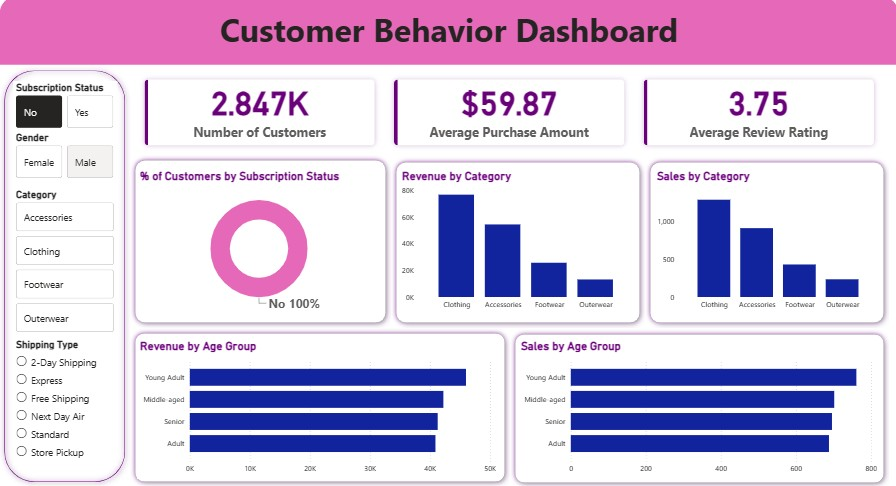

What the dashboard file says about the page in this screenshot:
{"tool":"powerbi","page":{"name":"Page 1","canvas":[1500,820],"ordinal":0},"visuals":[{"type":"cardVisual","fields":{"Data":["public customer.Number of Customers","public customer.Average Purchase Amount","public customer.Average Review Rating"]},"box":[218.3,115,1265,153.3],"z":0},{"type":"shape","box":[0,0,1500,115.4],"z":1000},{"type":"textbox","box":[0,13.4,1500,102],"z":2000},{"type":"shape","box":[218.3,265,435,288.3],"z":3000},{"type":"donutChart","title":"% of Customers by Subscription Status","fields":{"Category":["public customer.subscription_status"],"Y":["CountNonNull(public customer.customer_id)"]},"box":[230,288.3,406.7,243.3],"z":4000},{"type":"shape","box":[653.3,268.3,423.3,285],"z":5000},{"type":"shape","box":[1076.7,268.3,406.7,285],"z":6000},{"type":"clusteredColumnChart","title":"Revenue by Category","fields":{"Y":["Sum(public customer.purchase_amount)"],"Category":["public customer.category"]},"box":[666.7,288.3,395,243.3],"z":7000},{"type":"clusteredColumnChart","title":"Sales by Category","fields":{"Category":["public customer.category"],"Y":["CountNonNull(public customer.customer_id)"]},"box":[1091.7,288.3,376.7,243.3],"z":8000},{"type":"shape","box":[0,115.4,219.1,704],"z":9000},{"type":"advancedSlicerVisual","title":"Subscription Status","fields":{"Values":["public customer.subscription_status"]},"box":[23.4,142.1,173.9,83.6],"z":10000},{"type":"advancedSlicerVisual","title":"Gender","fields":{"Values":["public customer.gender"]},"box":[23.4,225.8,173.9,83.6],"z":11000},{"type":"advancedSlicerVisual","title":"Category","fields":{"Values":["public customer.category"]},"box":[23.4,319.4,173.9,245.8],"z":12000},{"type":"listSlicer","title":"Shipping Type","fields":{"Values":["public customer.shipping_type"]},"box":[23.4,570.2,173.9,212.4],"z":13000},{"type":"shape","box":[218.3,553.3,633.3,265],"z":14000},{"type":"clusteredBarChart","title":"Revenue by Age Group","fields":{"Y":["Sum(public customer.purchase_amount)"],"Category":["public customer.age_group"]},"box":[230,571.7,603.3,233.3],"z":15000},{"type":"shape","box":[851.7,555,631.7,265],"z":16000},{"type":"clusteredBarChart","title":"Sales by Age Group","fields":{"Y":["CountNonNull(public customer.customer_id)"],"Category":["public customer.age_group"]},"box":[865,571.7,603.3,233.3],"z":17000}]}

Visuals, with their boxes in screenshot pixels (x1, y1, x2, y2), scaled from the page's 1500x820 canvas onto the 896x486 screenshot:
cardVisual - public customer.Number of Customers x public customer.Average Purchase Amount: (left=130, top=68, right=886, bottom=159)
shape: (left=0, top=0, right=895, bottom=68)
textbox: (left=0, top=8, right=895, bottom=68)
shape: (left=130, top=157, right=390, bottom=328)
"% of Customers by Subscription Status" donutChart: (left=137, top=171, right=380, bottom=315)
shape: (left=390, top=159, right=643, bottom=328)
shape: (left=643, top=159, right=886, bottom=328)
"Revenue by Category" clusteredColumnChart: (left=398, top=171, right=634, bottom=315)
"Sales by Category" clusteredColumnChart: (left=652, top=171, right=877, bottom=315)
shape: (left=0, top=68, right=131, bottom=485)
"Subscription Status" advancedSlicerVisual: (left=14, top=84, right=118, bottom=134)
"Gender" advancedSlicerVisual: (left=14, top=134, right=118, bottom=183)
"Category" advancedSlicerVisual: (left=14, top=189, right=118, bottom=335)
"Shipping Type" listSlicer: (left=14, top=338, right=118, bottom=464)
shape: (left=130, top=328, right=509, bottom=485)
"Revenue by Age Group" clusteredBarChart: (left=137, top=339, right=498, bottom=477)
shape: (left=509, top=329, right=886, bottom=485)
"Sales by Age Group" clusteredBarChart: (left=517, top=339, right=877, bottom=477)
